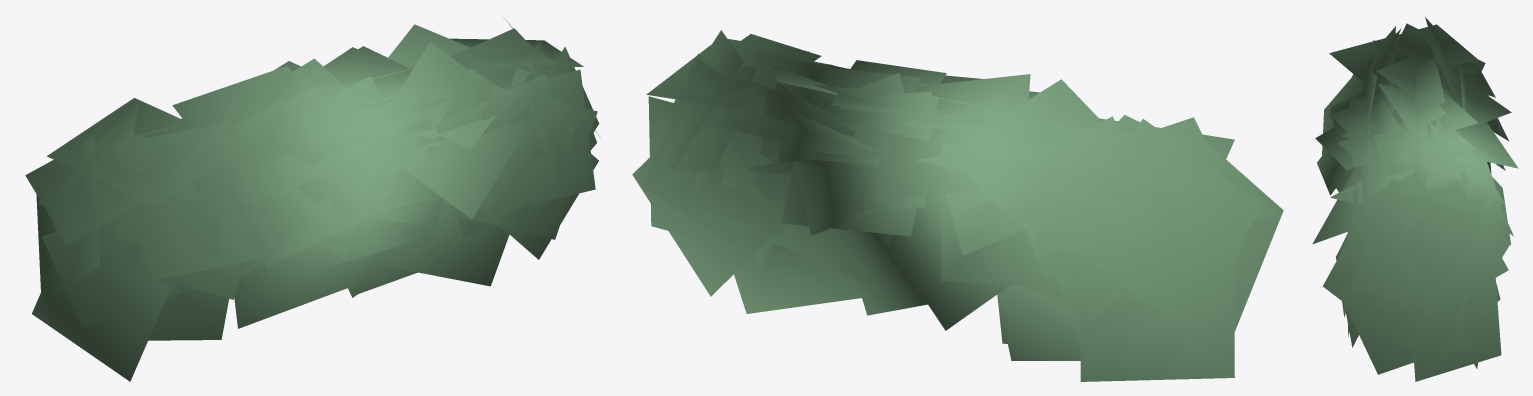
Rendered from lowspreadingshrub_1.glb.
3 views of the same model, side by side, from view 1: azimuth 30°, elevation 25°; view 2: azimuth 150°, elevation 25°; view 3: azimuth 270°, elevation 25° (orthographic). The views are drawn at different scales.
Visible parts, largest first — view 1: Bush_Small_Plane.026; view 2: Bush_Small_Plane.026; view 3: Bush_Small_Plane.026.
Boxes of the visible parts, x1,y1,x2,y2 form: Bush_Small_Plane.026: (25, 19, 601, 381); Bush_Small_Plane.026: (632, 30, 1283, 381); Bush_Small_Plane.026: (1312, 17, 1518, 381).
Size of the model in its own units: 1.9 by 0.7784 by 0.7238.
